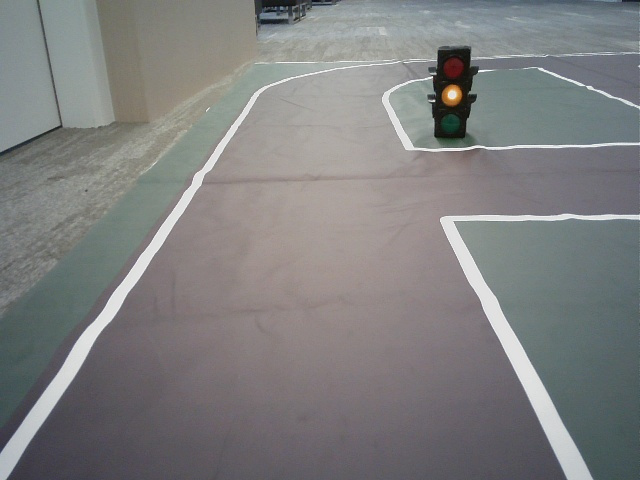yellow: (436, 50, 464, 136)
